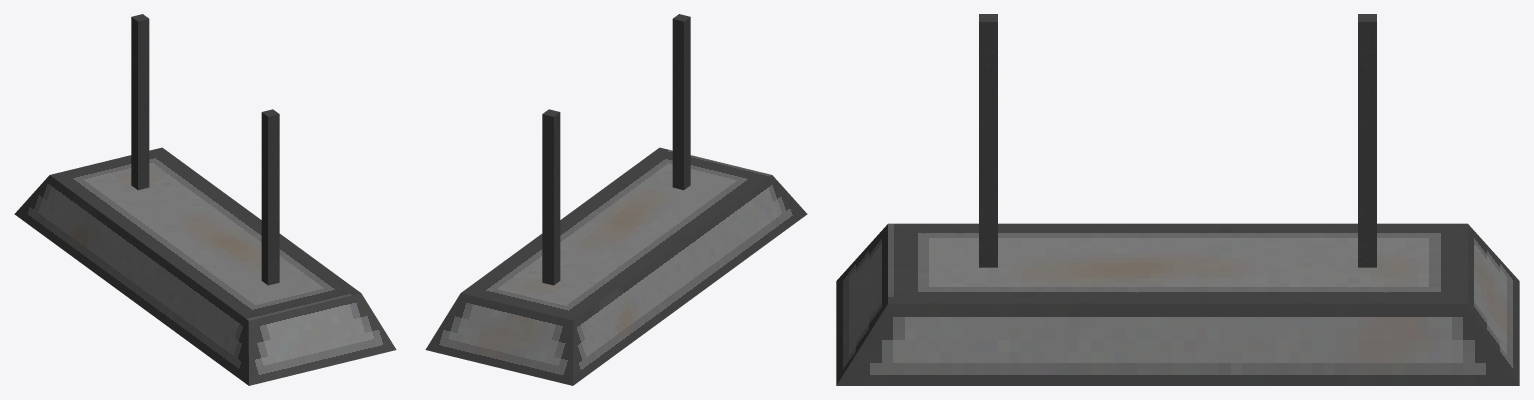
File: lamp2.fbx
3 views of the same model, side by side, from view 1: azimuth 30°, elevation 25°; view 2: azimuth 150°, elevation 25°; view 3: azimuth 270°, elevation 25° (orthographic). The views are drawn at different scales.
Parts seen in each view (by area): view 1: Cube, Cube.002, Cube.001; view 2: Cube, Cube.001, Cube.002; view 3: Cube, Cube.002, Cube.001.
Boxes of the visible parts, x1=… form: Cube: x1=14, y1=147, x2=396, y2=385; Cube.002: x1=131, y1=14, x2=149, y2=189; Cube.001: x1=261, y1=109, x2=279, y2=285; Cube: x1=425, y1=147, x2=807, y2=385; Cube.001: x1=672, y1=14, x2=690, y2=189; Cube.002: x1=542, y1=109, x2=560, y2=285; Cube: x1=836, y1=223, x2=1519, y2=385; Cube.002: x1=1358, y1=14, x2=1376, y2=267; Cube.001: x1=979, y1=14, x2=997, y2=267.
Bounding box in the file's own units: 262 × 367 × 721.
